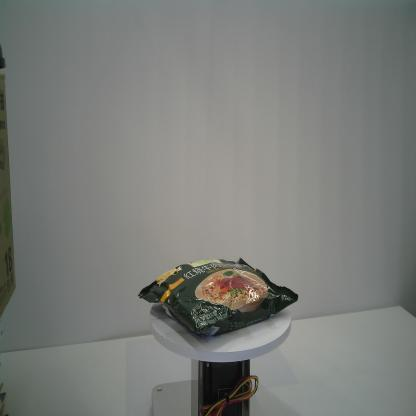Instant Noodles: (138, 257, 298, 337)
